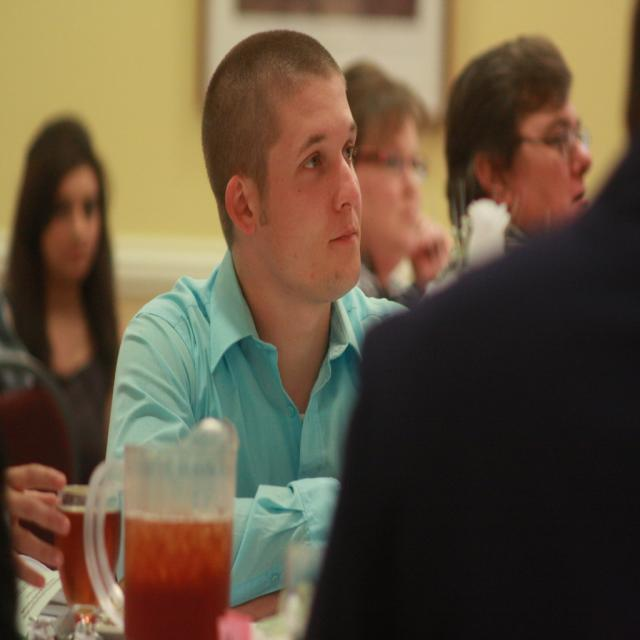Juice: (58, 391, 244, 635)
